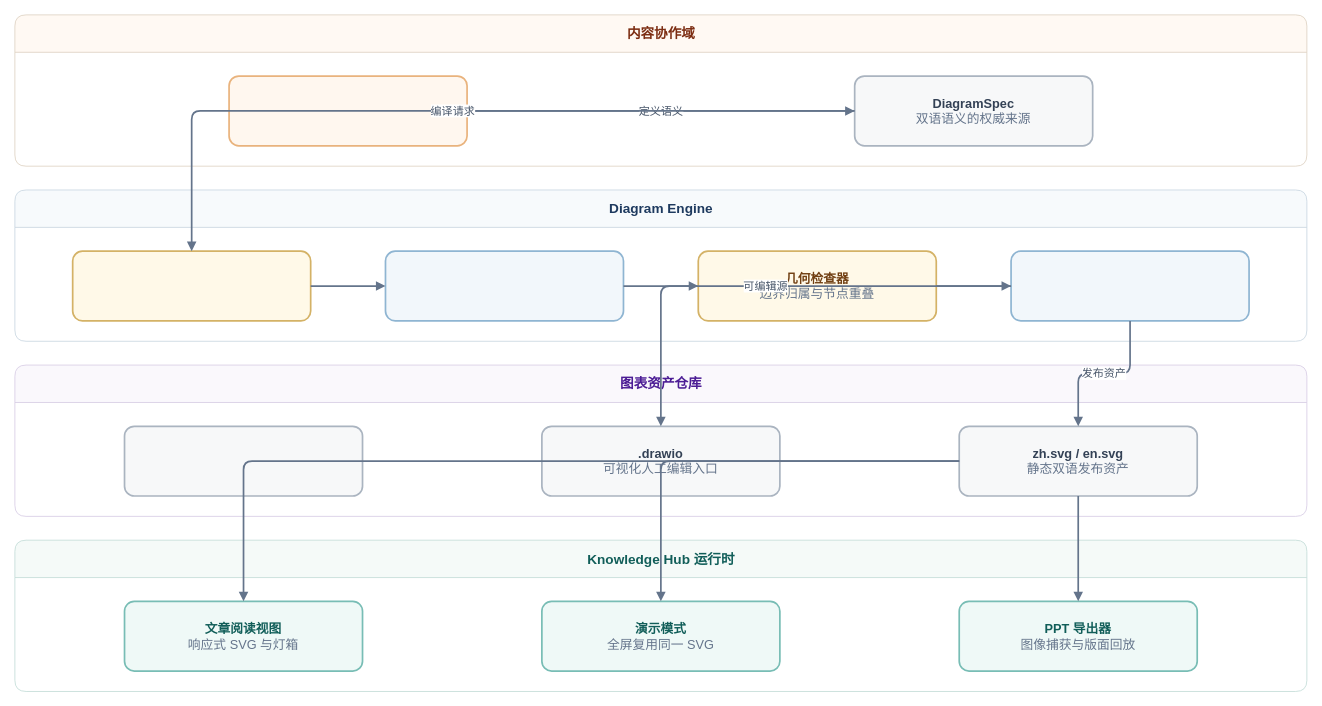
Image size: 1322x706. Some labels were removed from this diagram. Each missing label, with the centre of its shape:
".diagram.json 可重建的语义源" belongs at pixel 243 460.
"AI 内容协作 Agent 提炼读者问题与图意" belongs at pixel 348 110.
"布局与路由器 容器、组件与正交连接" belongs at pixel 504 285.
"规格校验器 schema、引用、双语与循环" belongs at pixel 191 285.
"资产序列化器 mxGraph XML 与 SVG" belongs at pixel 1130 285.
